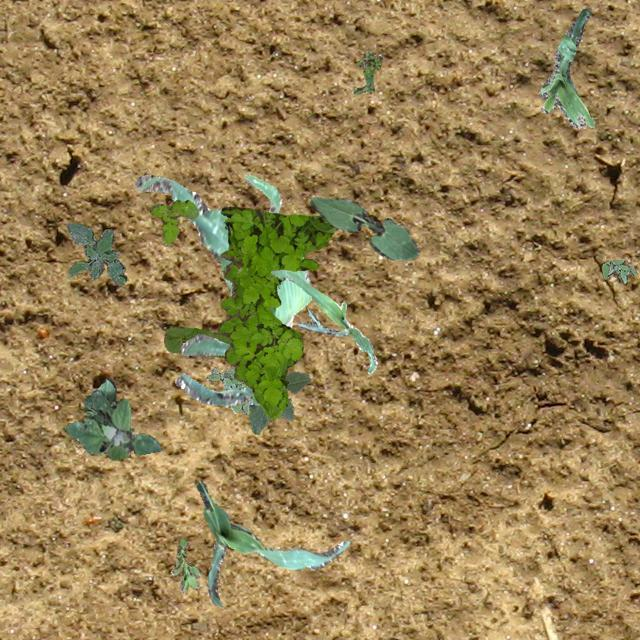crop: (134, 174, 310, 406), (195, 480, 348, 604), (270, 270, 376, 374), (308, 196, 418, 258), (538, 8, 594, 128), (248, 371, 310, 434), (164, 326, 232, 356), (84, 378, 115, 420)
weed: (216, 205, 336, 418), (65, 389, 162, 458), (66, 222, 126, 284), (206, 364, 258, 414), (148, 198, 198, 246), (170, 538, 200, 592), (352, 48, 382, 94), (600, 258, 636, 282)
